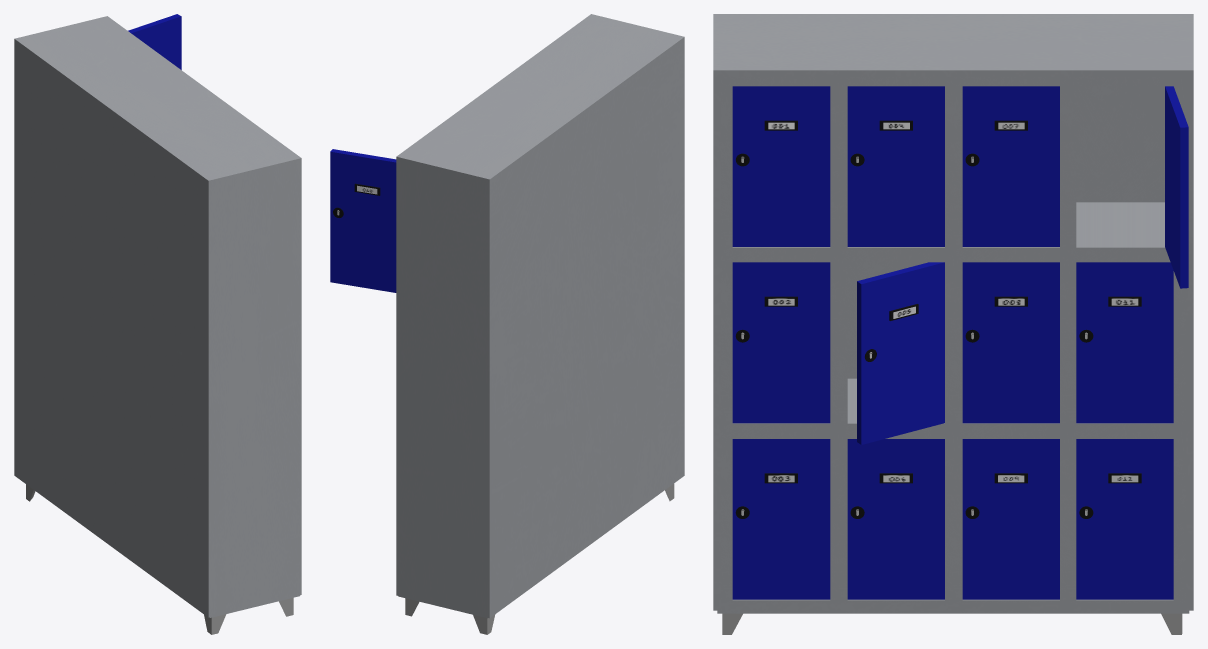
File: conjuntoTaquillasAbierta.fbx
The picture shows the model from 3 angles, left to right: view 1: azimuth 30°, elevation 25°; view 2: azimuth 150°, elevation 25°; view 3: azimuth 270°, elevation 25°; orthographic projection. The views are drawn at different scales.
Parts seen in each view (by area): view 1: Cubo.003, Tapa.012; view 2: Cubo.003, Tapa.012; view 3: Cubo.003, Caja.012, Tapa.007, Tapa, Tapa.011, Tapa.009, Tapa.008, Tapa.006, Tapa.013, Tapa.014, Tapa.002, Tapa.001 (+13 smaller).
Boxes of the visible parts, x1,y1,x2,y2 form: Cubo.003: [14, 16, 301, 617]; Tapa.012: [128, 14, 181, 69]; Cubo.003: [396, 14, 684, 618]; Tapa.012: [330, 149, 396, 292]; Cubo.003: [713, 14, 1193, 610]; Caja.012: [1061, 76, 1186, 260]; Tapa.007: [732, 262, 830, 423]; Tapa: [732, 439, 830, 599]; Tapa.011: [732, 86, 830, 246]; Tapa.009: [962, 262, 1059, 423]; Tapa.008: [1076, 262, 1173, 423]; Tapa.006: [1076, 439, 1173, 599]; Tapa.013: [962, 86, 1059, 246]; Tapa.014: [847, 86, 944, 246]; Tapa.002: [962, 439, 1059, 599]; Tapa.001: [847, 439, 944, 599].
Bounding box in the file's own units: 360 × 976 × 749.
17 materials, 14 textured.
